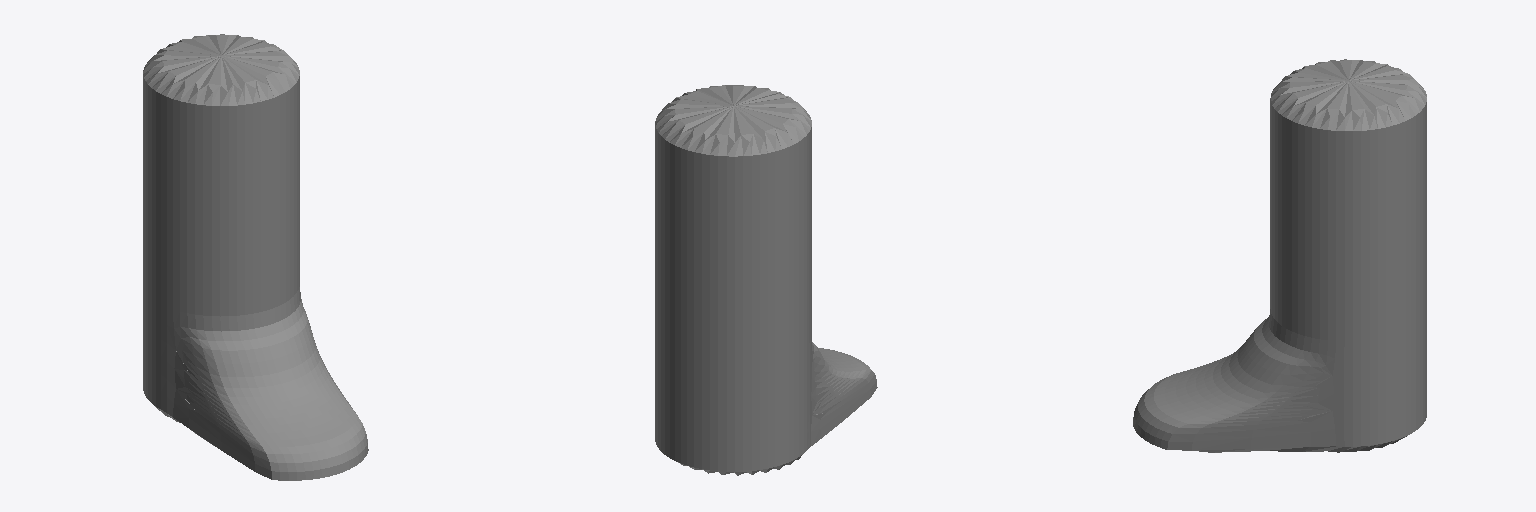
File: Pierna_IZQ.obj
3 views of the same model, side by side, from view 1: azimuth 30°, elevation 25°; view 2: azimuth 150°, elevation 25°; view 3: azimuth 270°, elevation 25° (orthographic).
Parts seen in each view (by area): view 1: Cylinder003; view 2: Cylinder003; view 3: Cylinder003.
Boxes of the visible parts, <box> form: Cylinder003: <box>143,34,368,480</box>; Cylinder003: <box>655,85,877,475</box>; Cylinder003: <box>1133,59,1426,452</box>.
Size of the model in its own units: 3.83 by 9.46 by 7.2.